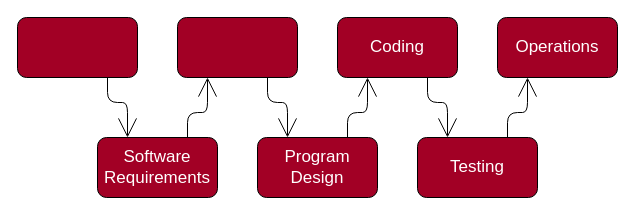
The diagram is 635 pixels wide and 215 high, and some of its shapes have lost their labels. Here are the shapes that lost their labels. From the top down, the centre of each, then its label:
At point (77, 47): "System Requirements".
At point (237, 47): "Analysis".
